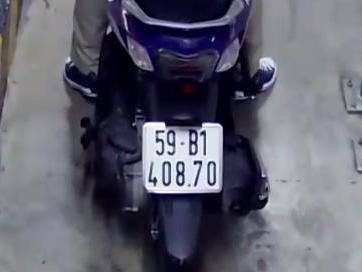num_plate: (141, 118, 223, 197)
